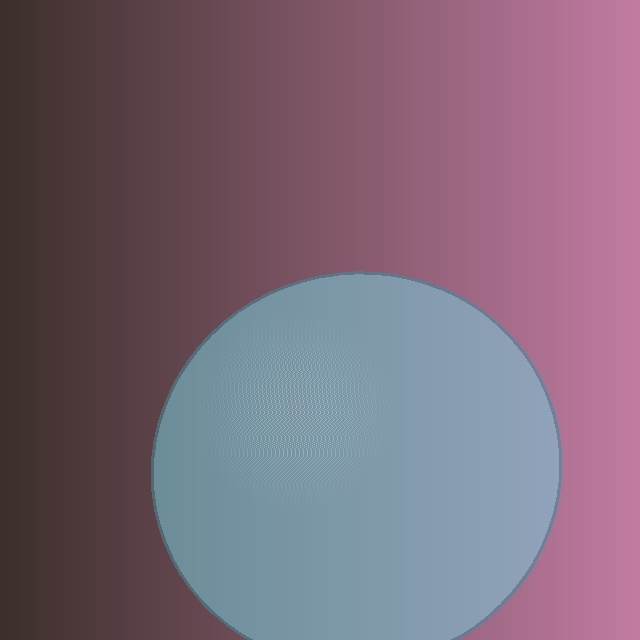lens: (152, 272, 560, 640)
